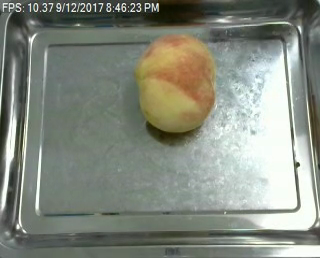Peach: (135, 32, 217, 132)
